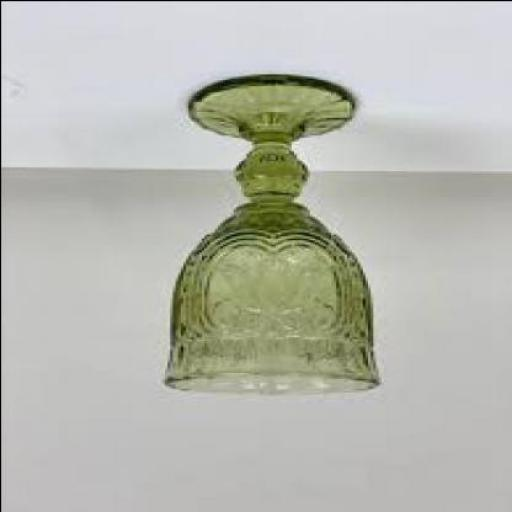glass: (166, 75, 383, 398)
